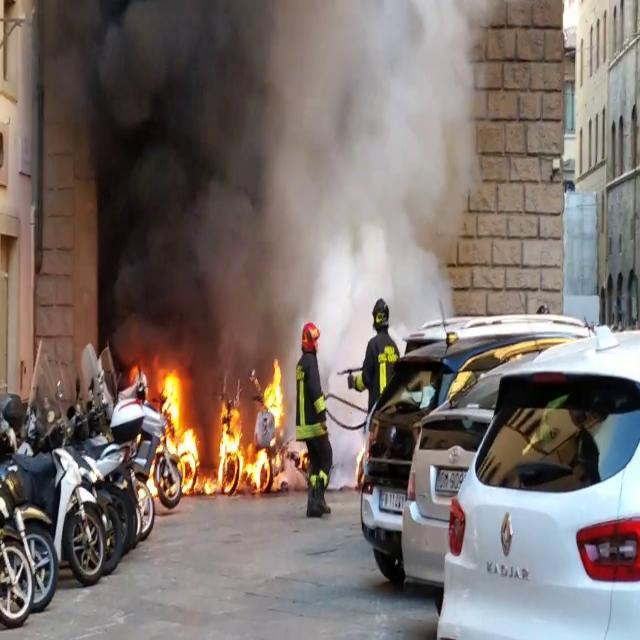Fire: (146, 356, 288, 501)
Smoke: (46, 0, 486, 351)
